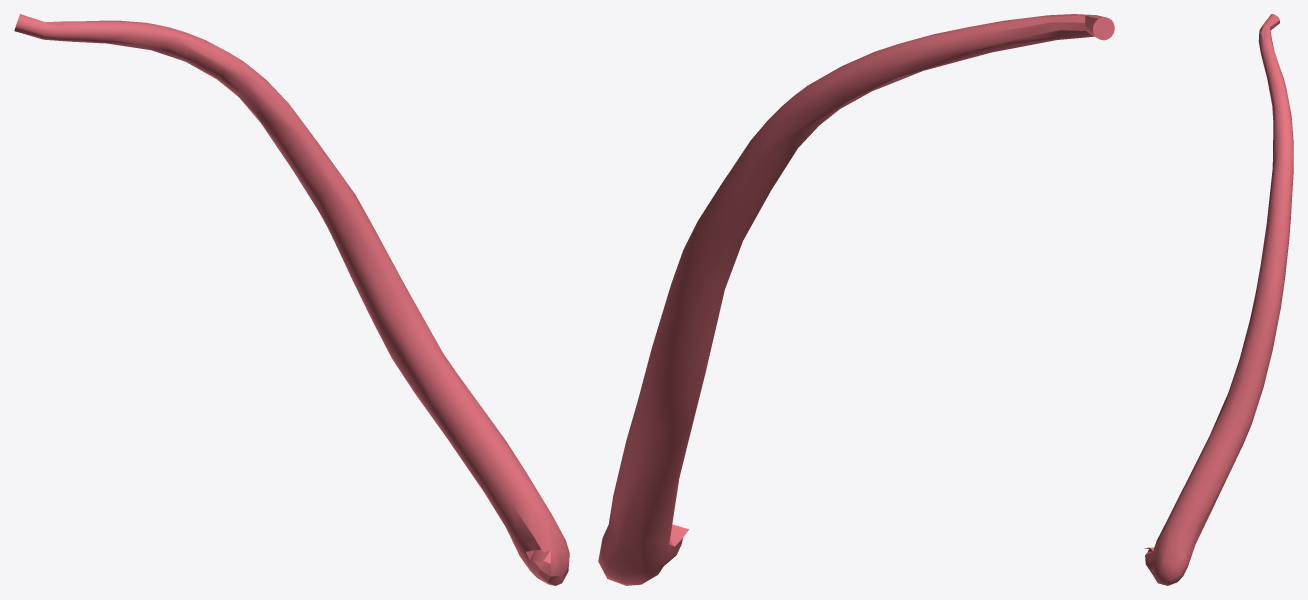
Rendered from fma3823_mm438.glb.
3 renders of one model, left to right at view 1: azimuth 30°, elevation 25°; view 2: azimuth 150°, elevation 25°; view 3: azimuth 270°, elevation 25°, orthographic. The views are drawn at different scales.
Parts seen in each view (by area): view 1: FMA3823_MM438; view 2: FMA3823_MM438; view 3: FMA3823_MM438.
Part boxes in pixels (<box>): FMA3823_MM438: <box>14,14,569,585</box>; FMA3823_MM438: <box>598,14,1114,585</box>; FMA3823_MM438: <box>1144,14,1293,585</box>.
Size of the model in its own units: 0.0217 by 0.0267 by 0.00869.
